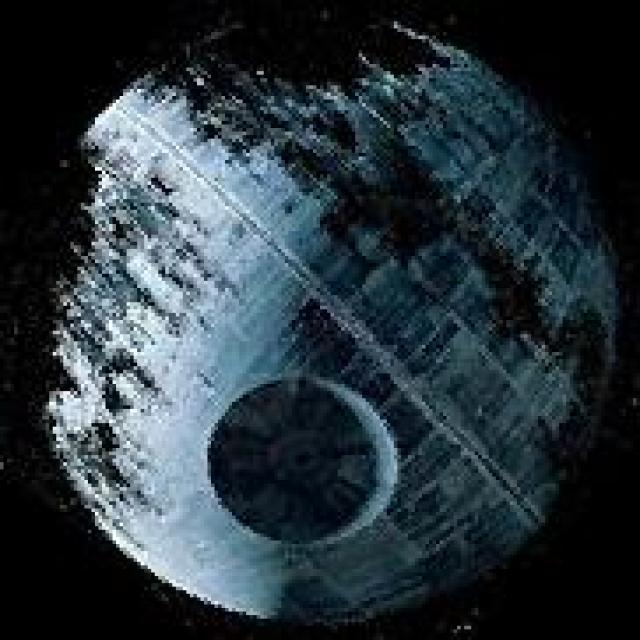Death Star: (31, 0, 629, 629)
